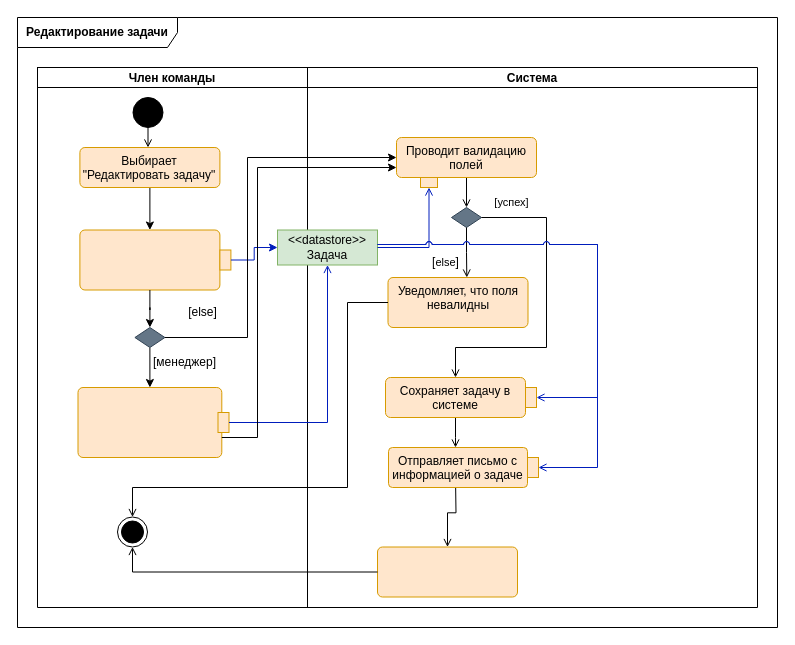
The diagram is 795 pixels wide and 645 high, and some of its shapes have lost their labels. Here are the shapes that lost their labels. From the top down, the box of each, then its label:
(79, 229, 220, 290): Редактирует поля: затраченное время, тип статуса, исполнитель
(77, 386, 222, 458): Редактирует поля: название, описание, выделенное время, статус
(376, 546, 518, 597): Уведомляет об успешном создании задачи
